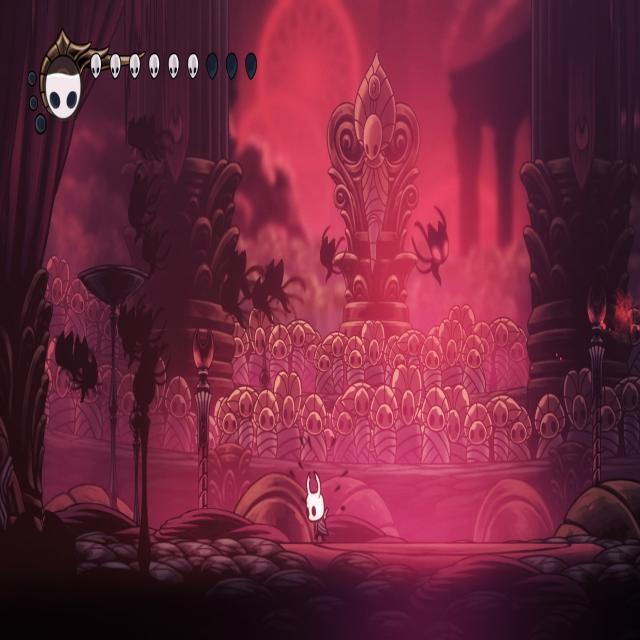Player: (303, 466, 331, 545)
Staggered_Grimm: (411, 200, 451, 290)
